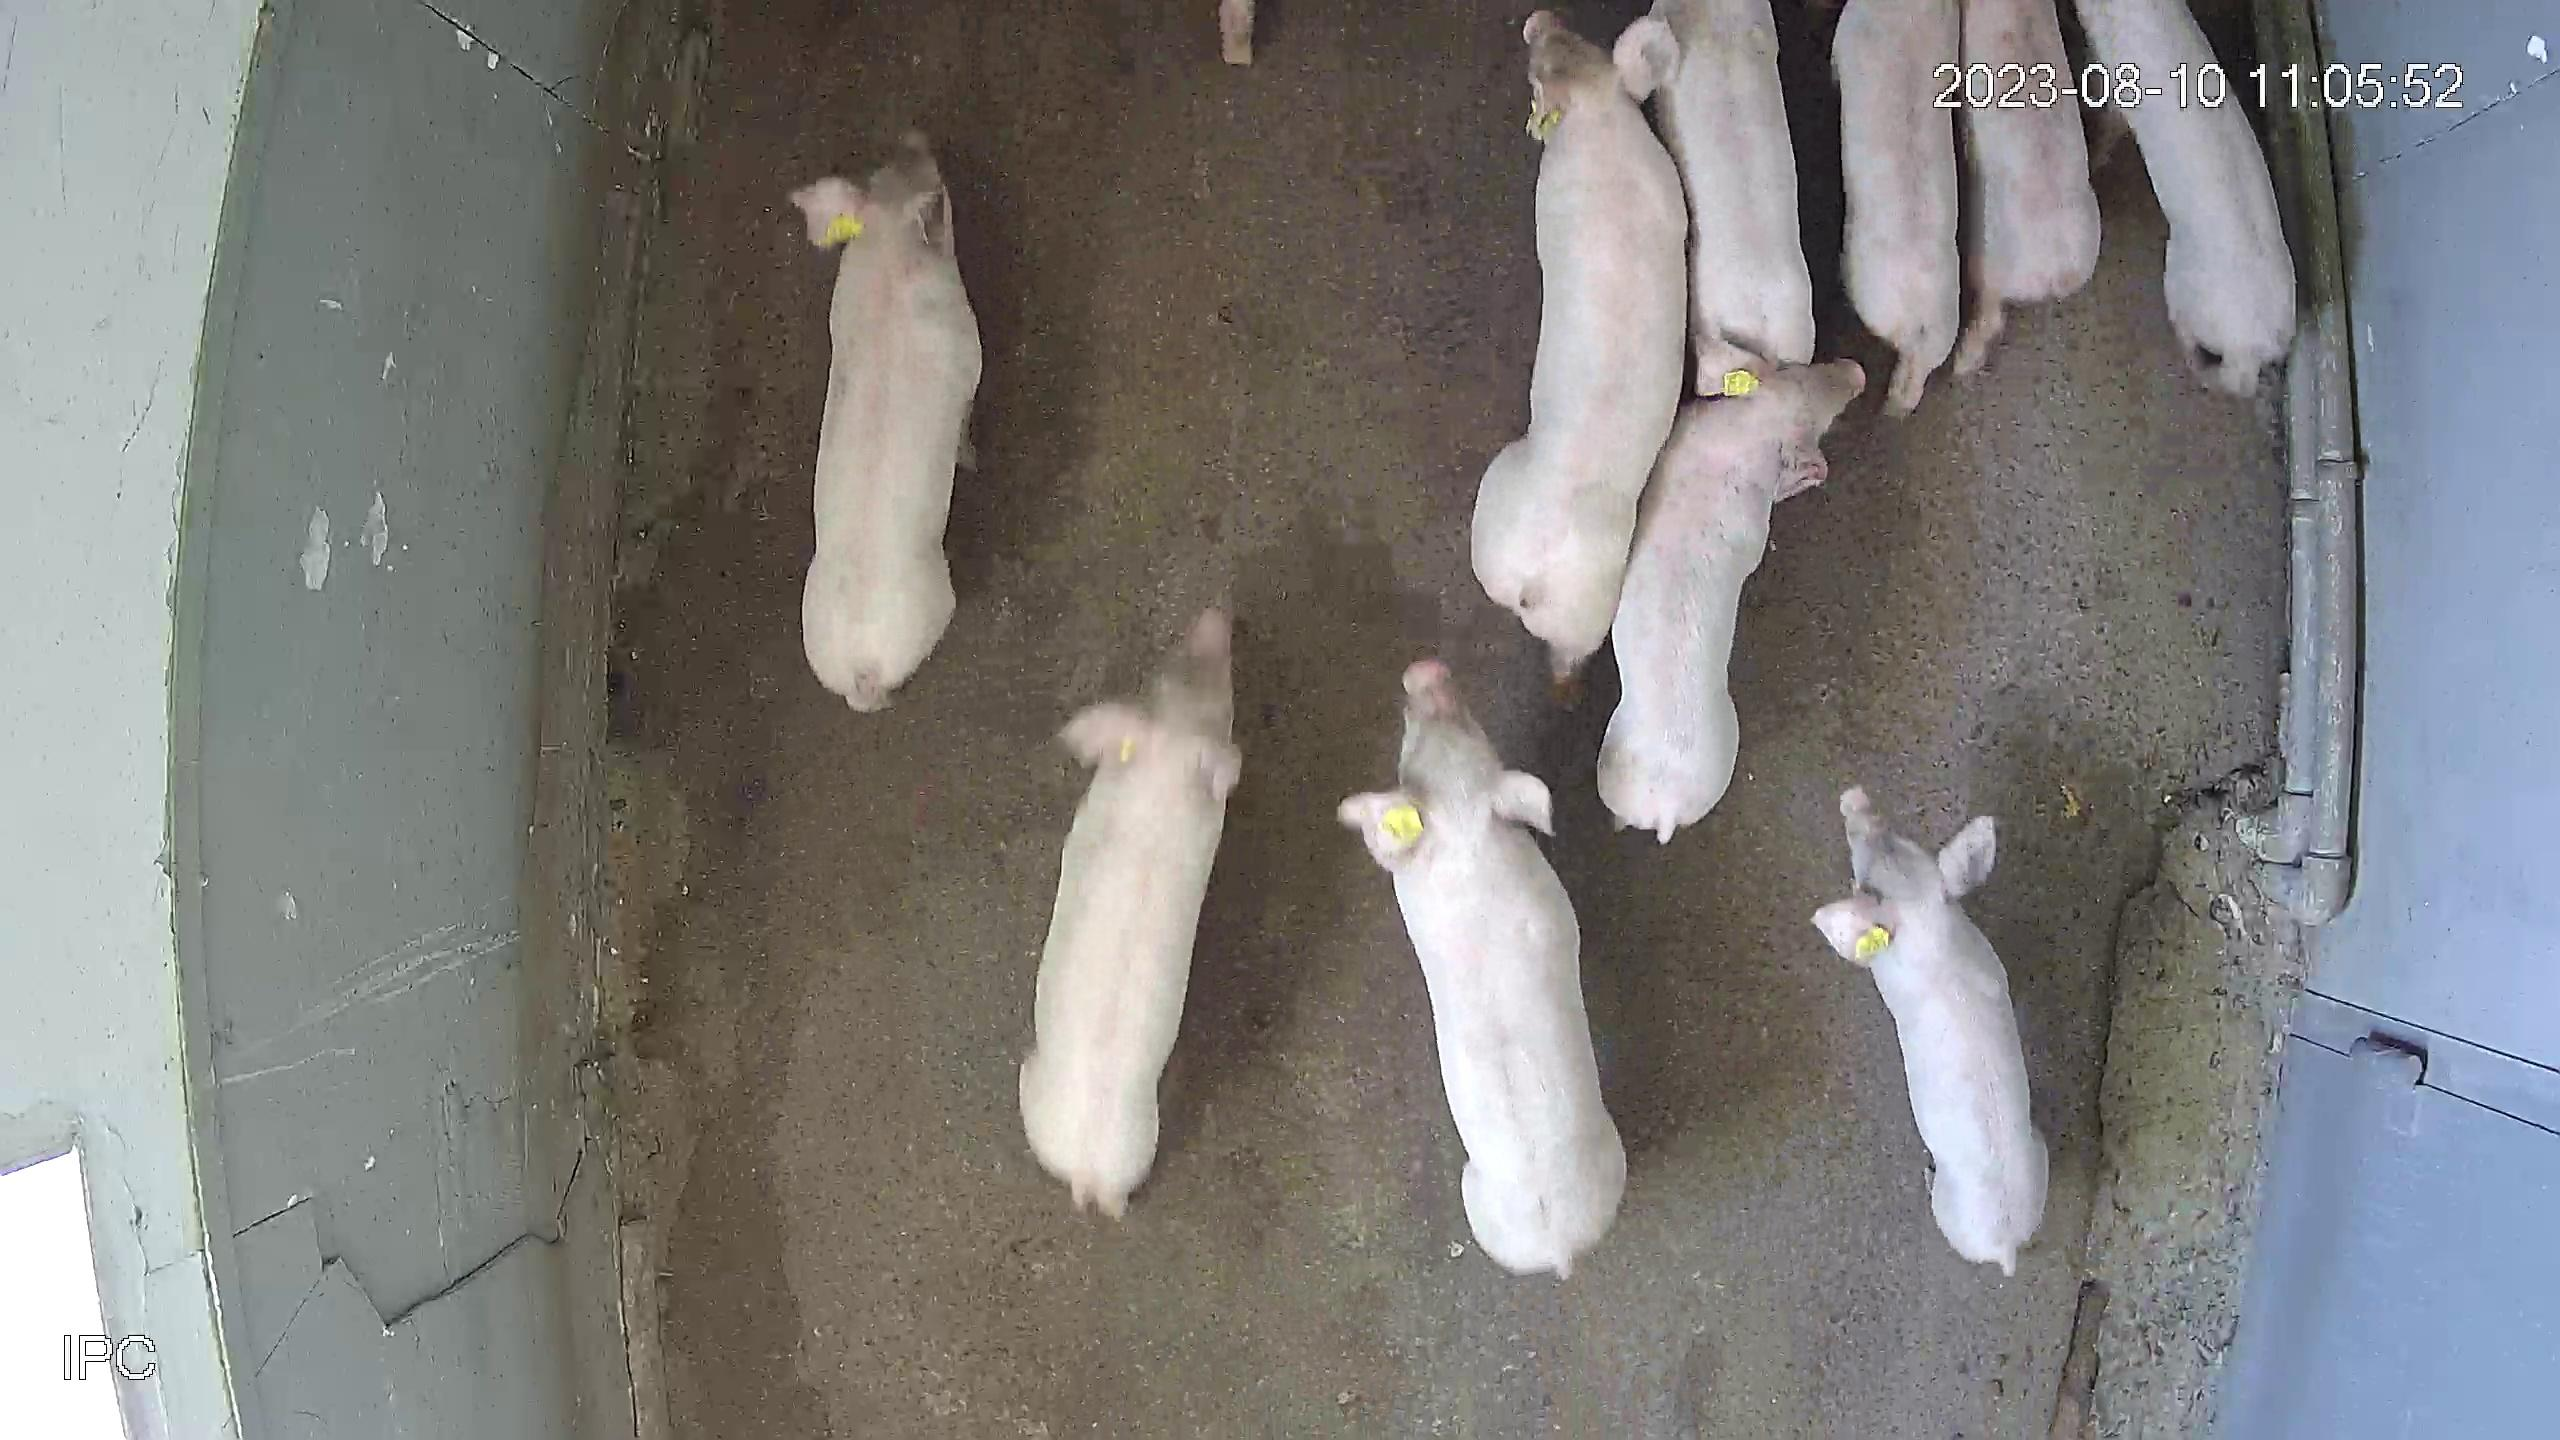Pig: (1338, 658, 1628, 1276), (1472, 7, 1690, 677), (1020, 607, 1241, 1217), (1600, 355, 1867, 842), (1816, 784, 2052, 1275), (789, 128, 981, 710), (2080, 0, 2300, 394), (1653, 0, 1818, 394), (1957, 0, 2105, 373), (1836, 0, 1964, 415)
